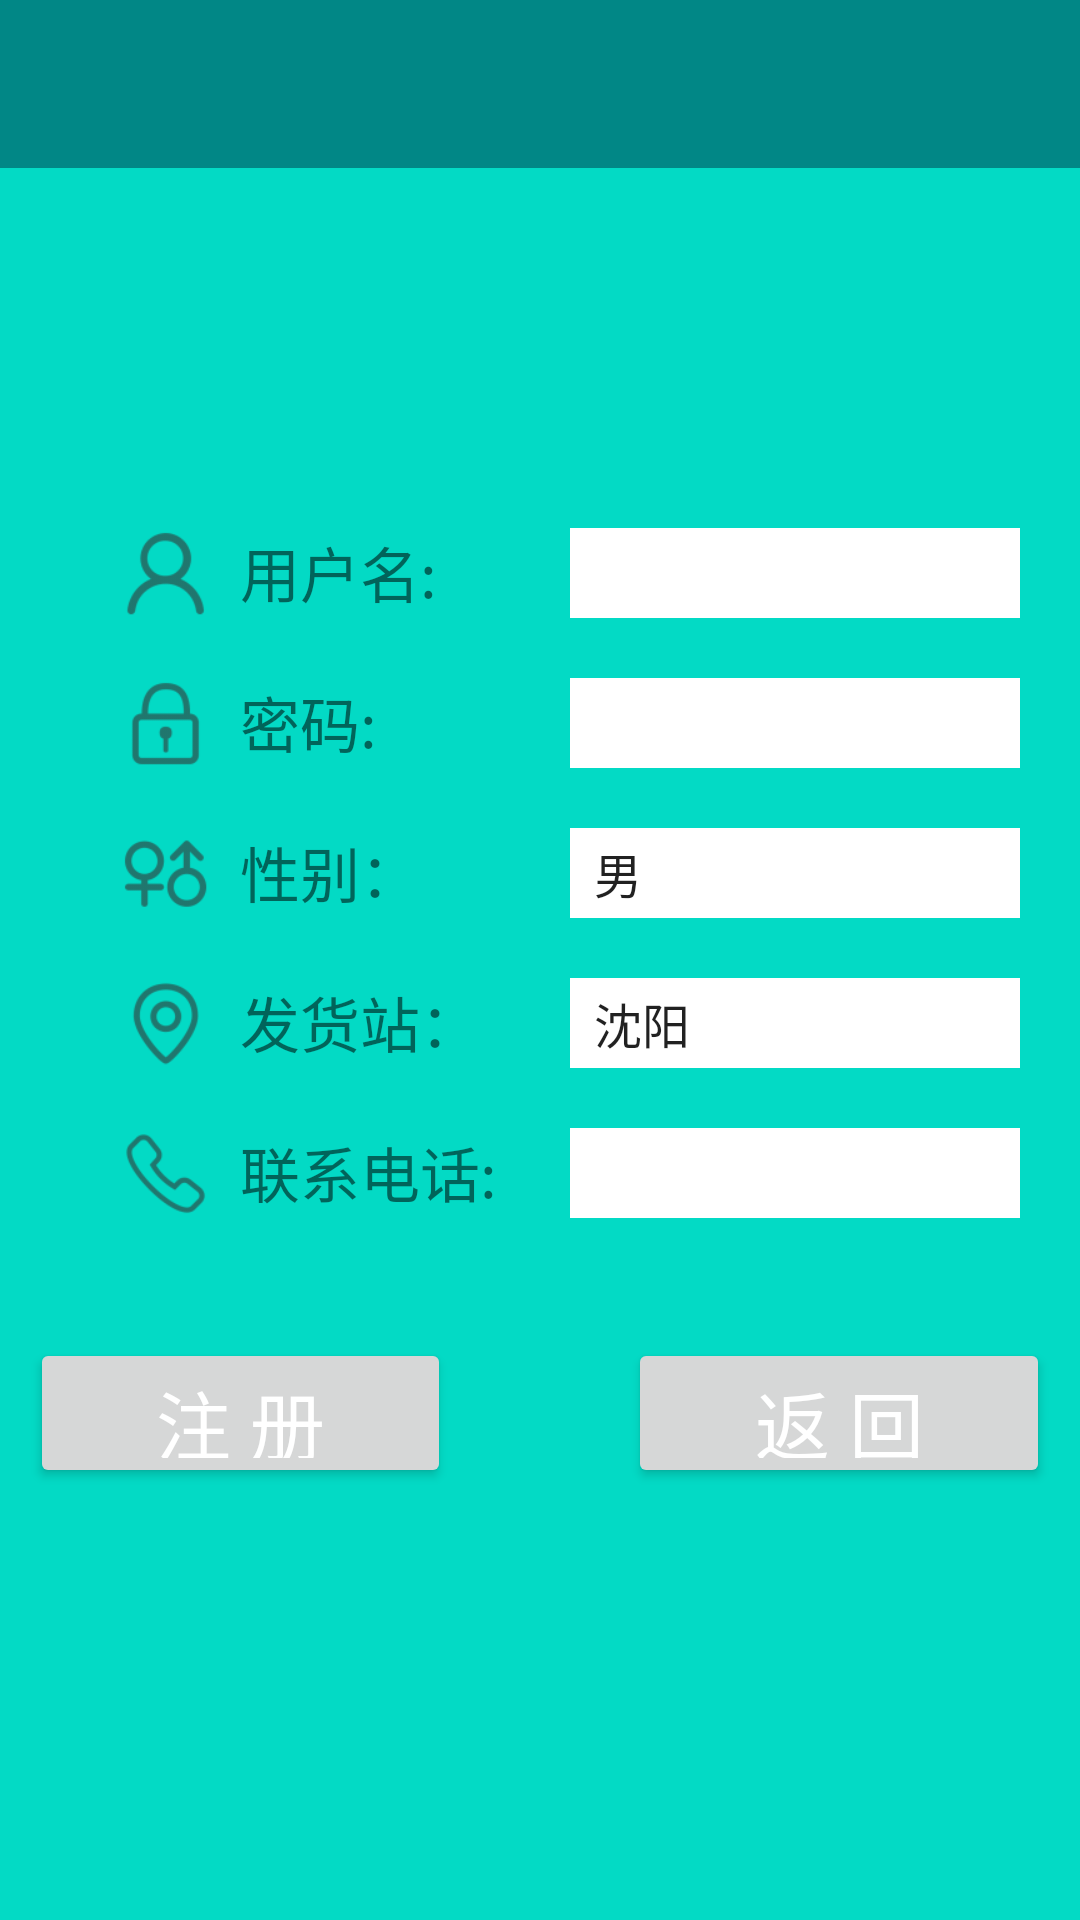

Named icons in this screenshot (1080px×1920px) and their bounding boxes, bbox=(x1, y1, x2, y2):
pass: bbox=(132, 683, 199, 765)
sex: bbox=(125, 840, 207, 907)
user: bbox=(127, 533, 204, 615)
userloc: bbox=(133, 983, 199, 1064)
usertel: bbox=(126, 1134, 205, 1213)
